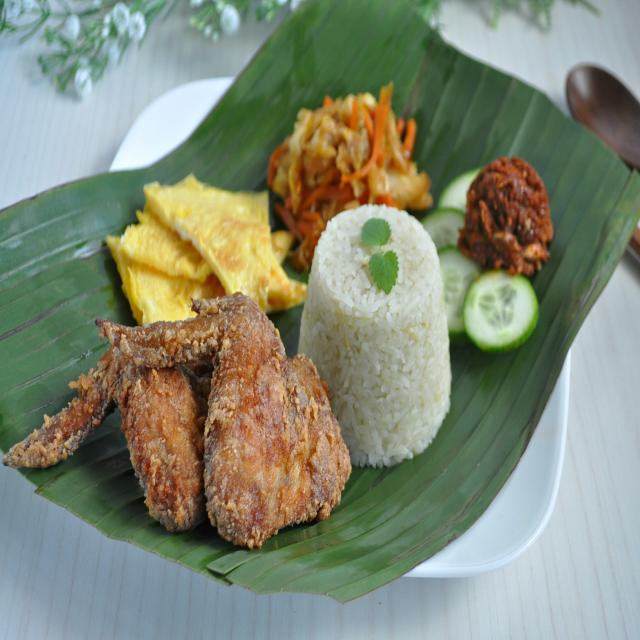Chicken: (4, 293, 351, 549)
Egg: (107, 174, 306, 324)
Green veg: (421, 169, 539, 350)
Non green veg: (268, 82, 433, 270)
Rice: (298, 205, 451, 466)
